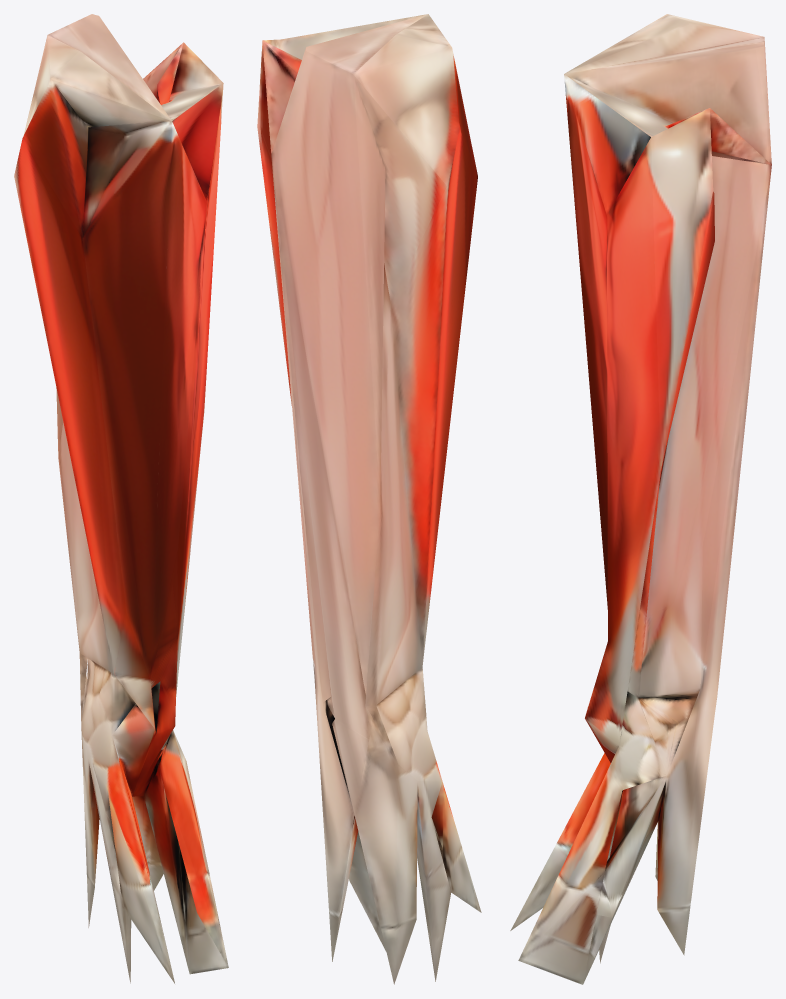
File: base_basic_shaded.fbx
3 renders of one model, left to right at view 1: azimuth 30°, elevation 25°; view 2: azimuth 150°, elevation 25°; view 3: azimuth 270°, elevation 25°, orthographic. The views are drawn at different scales.
Parts seen in each view (by area): view 1: model; view 2: model; view 3: model.
Boxes of the visible parts, x1,y1,x2,y2 form: model: [14, 14, 228, 983]; model: [257, 14, 481, 984]; model: [510, 14, 771, 984].
Size of the model in its own units: 36.83 by 174 by 44.18.
